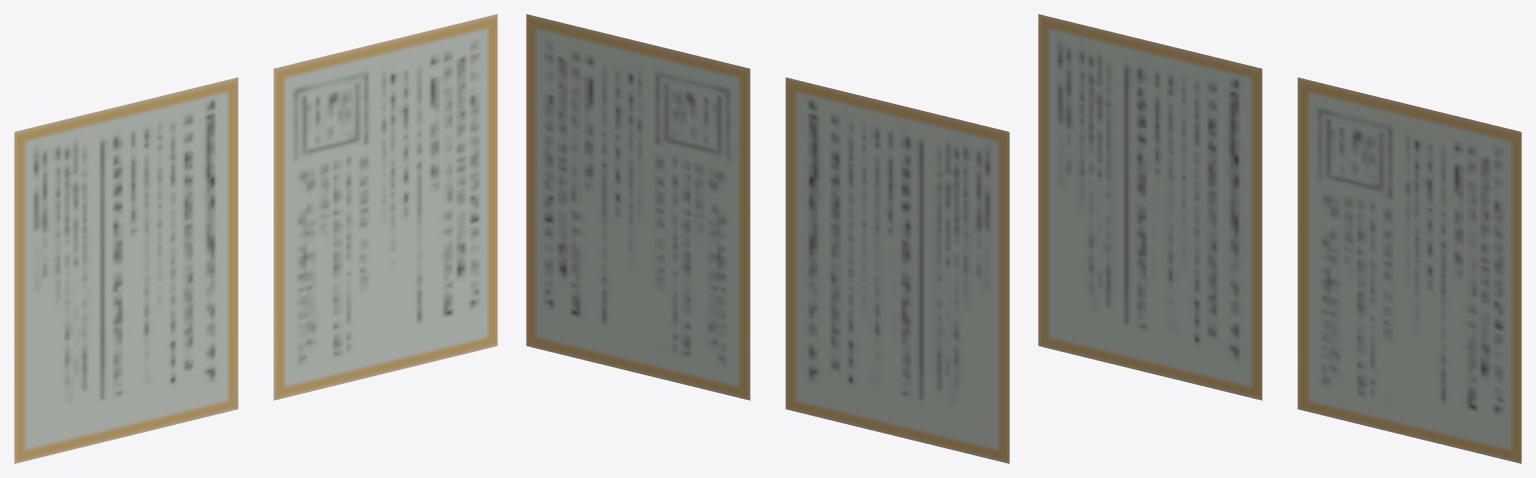
The model's file is Paper_01_04.fbx.
The picture shows the model from 3 angles, left to right: view 1: azimuth 30°, elevation 25°; view 2: azimuth 150°, elevation 25°; view 3: azimuth 330°, elevation 25°; orthographic projection.
Visible parts, largest first — view 1: paper_01_04; view 2: paper_01_04; view 3: paper_01_04.
Part boxes in pixels (box(x1,y1,x2,y2)): paper_01_04: box(14, 14, 497, 463); paper_01_04: box(526, 14, 1009, 463); paper_01_04: box(1038, 14, 1521, 463).
Bounding box in the file's own units: 45.28 × 29.7 × 0.
